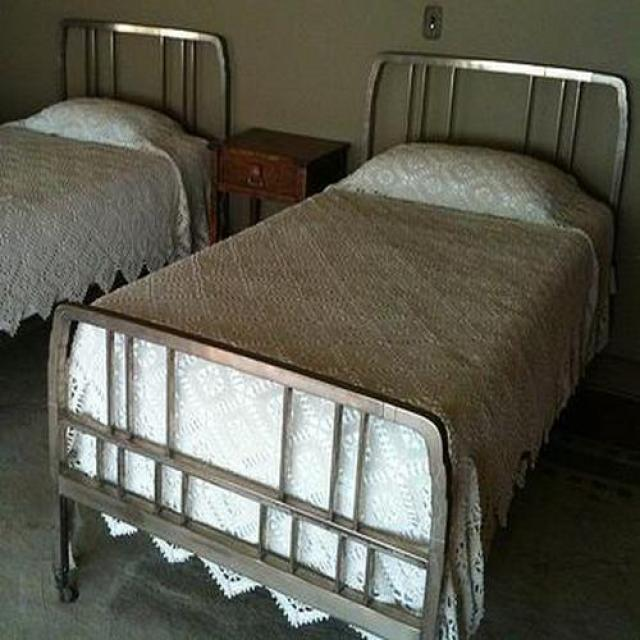bed: (46, 55, 630, 640), (0, 19, 233, 342)
